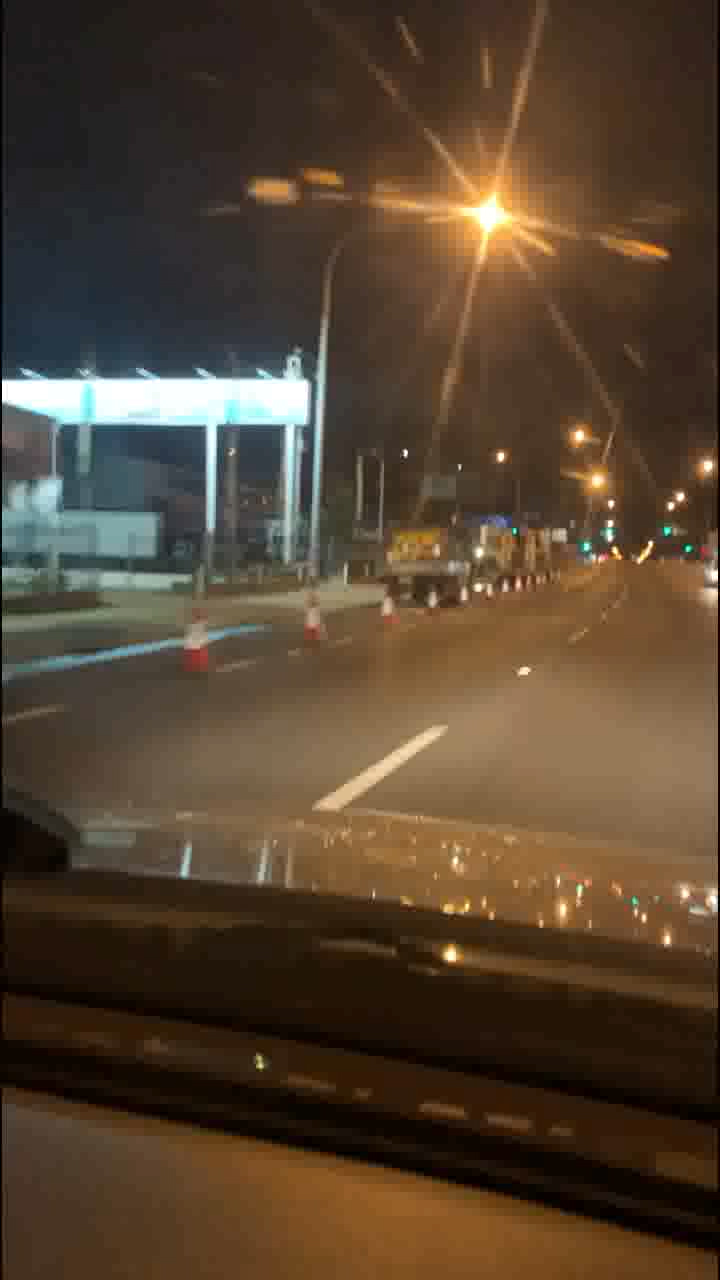road cone: (180, 603, 218, 675), (294, 589, 332, 661), (375, 595, 408, 635)
truck: (390, 523, 478, 588)
